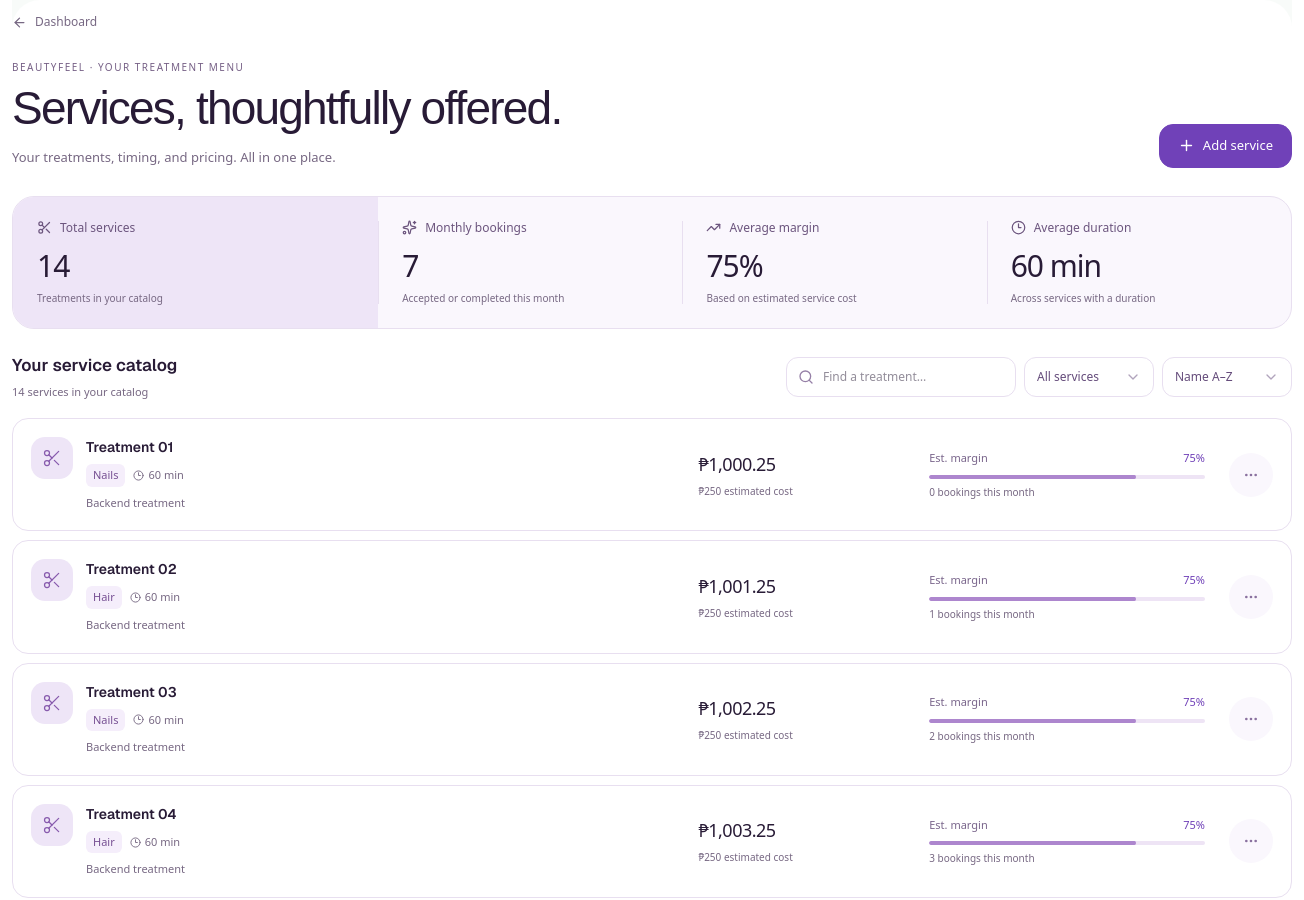
Scenario: redesign services catalog › sorts by price through the styled menu
Step 1. Press ArrowDown in the dropdown named "Sort services", box top-left (1162, 357), bottom-right (1292, 397)
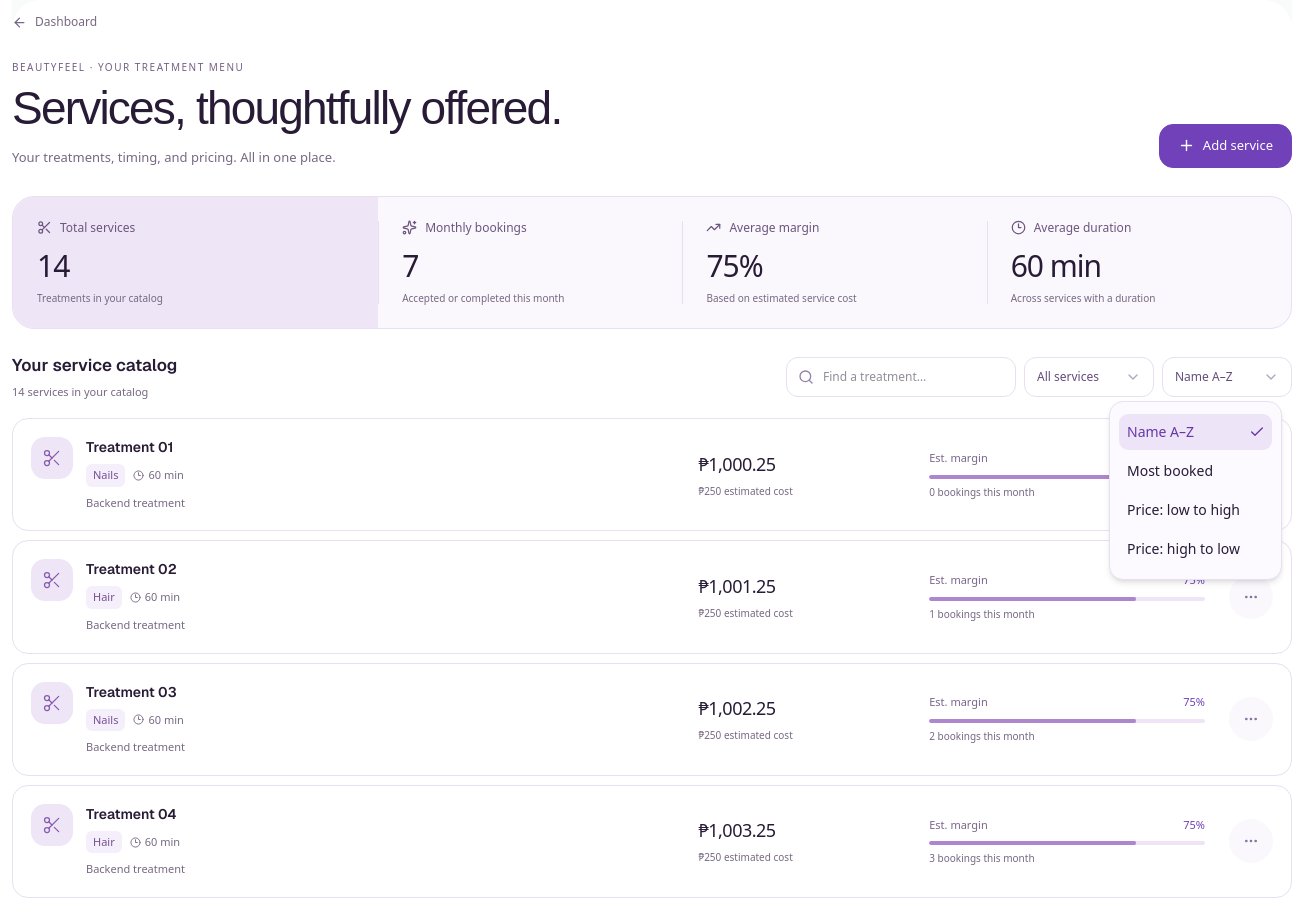
Step 2. Click the option "Price: high to low" → [1184, 548], box top-left (1127, 539), bottom-right (1240, 558)
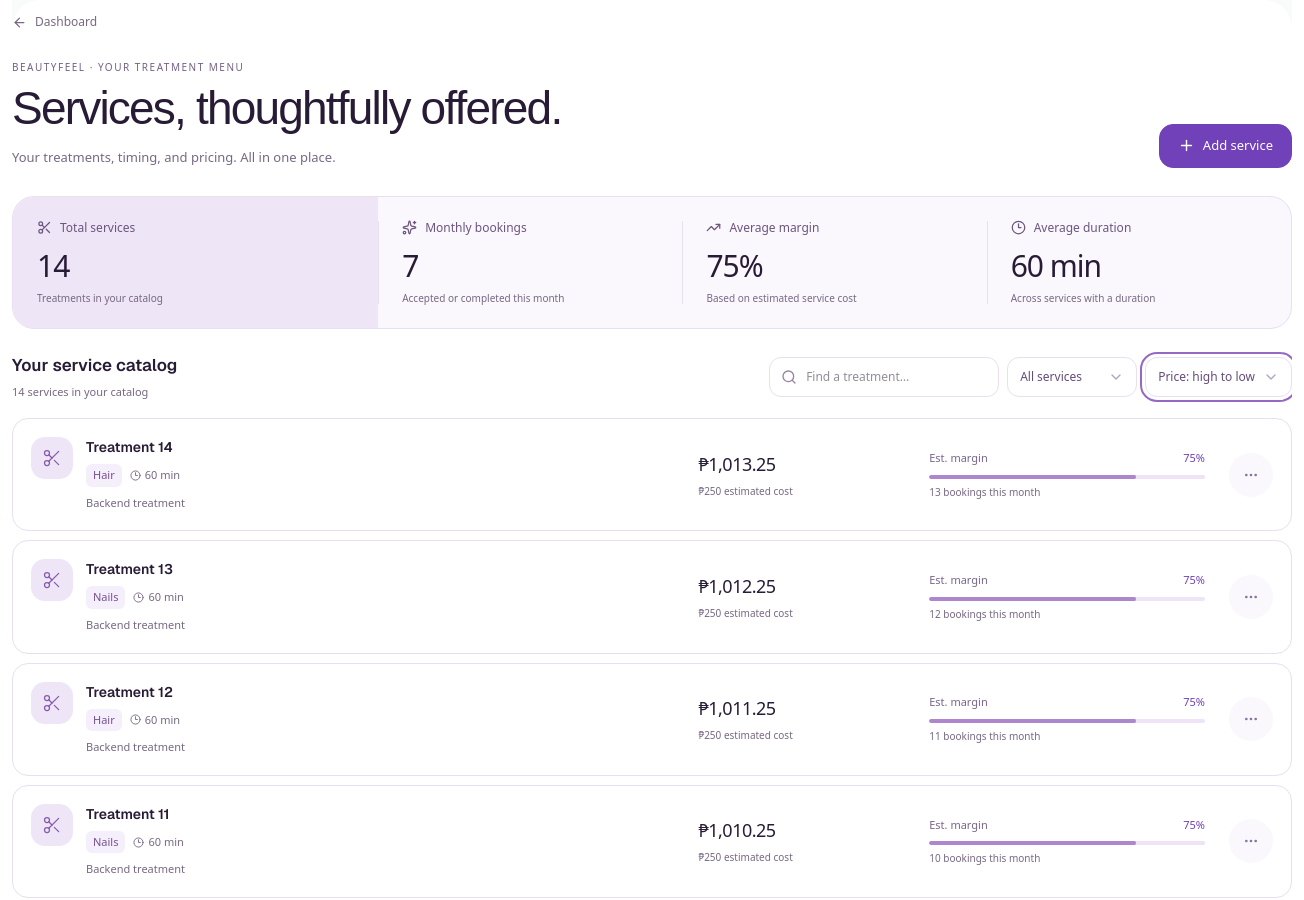
Result: the heading "Treatment 14" is shown at top-left (86, 437), bottom-right (185, 458)
